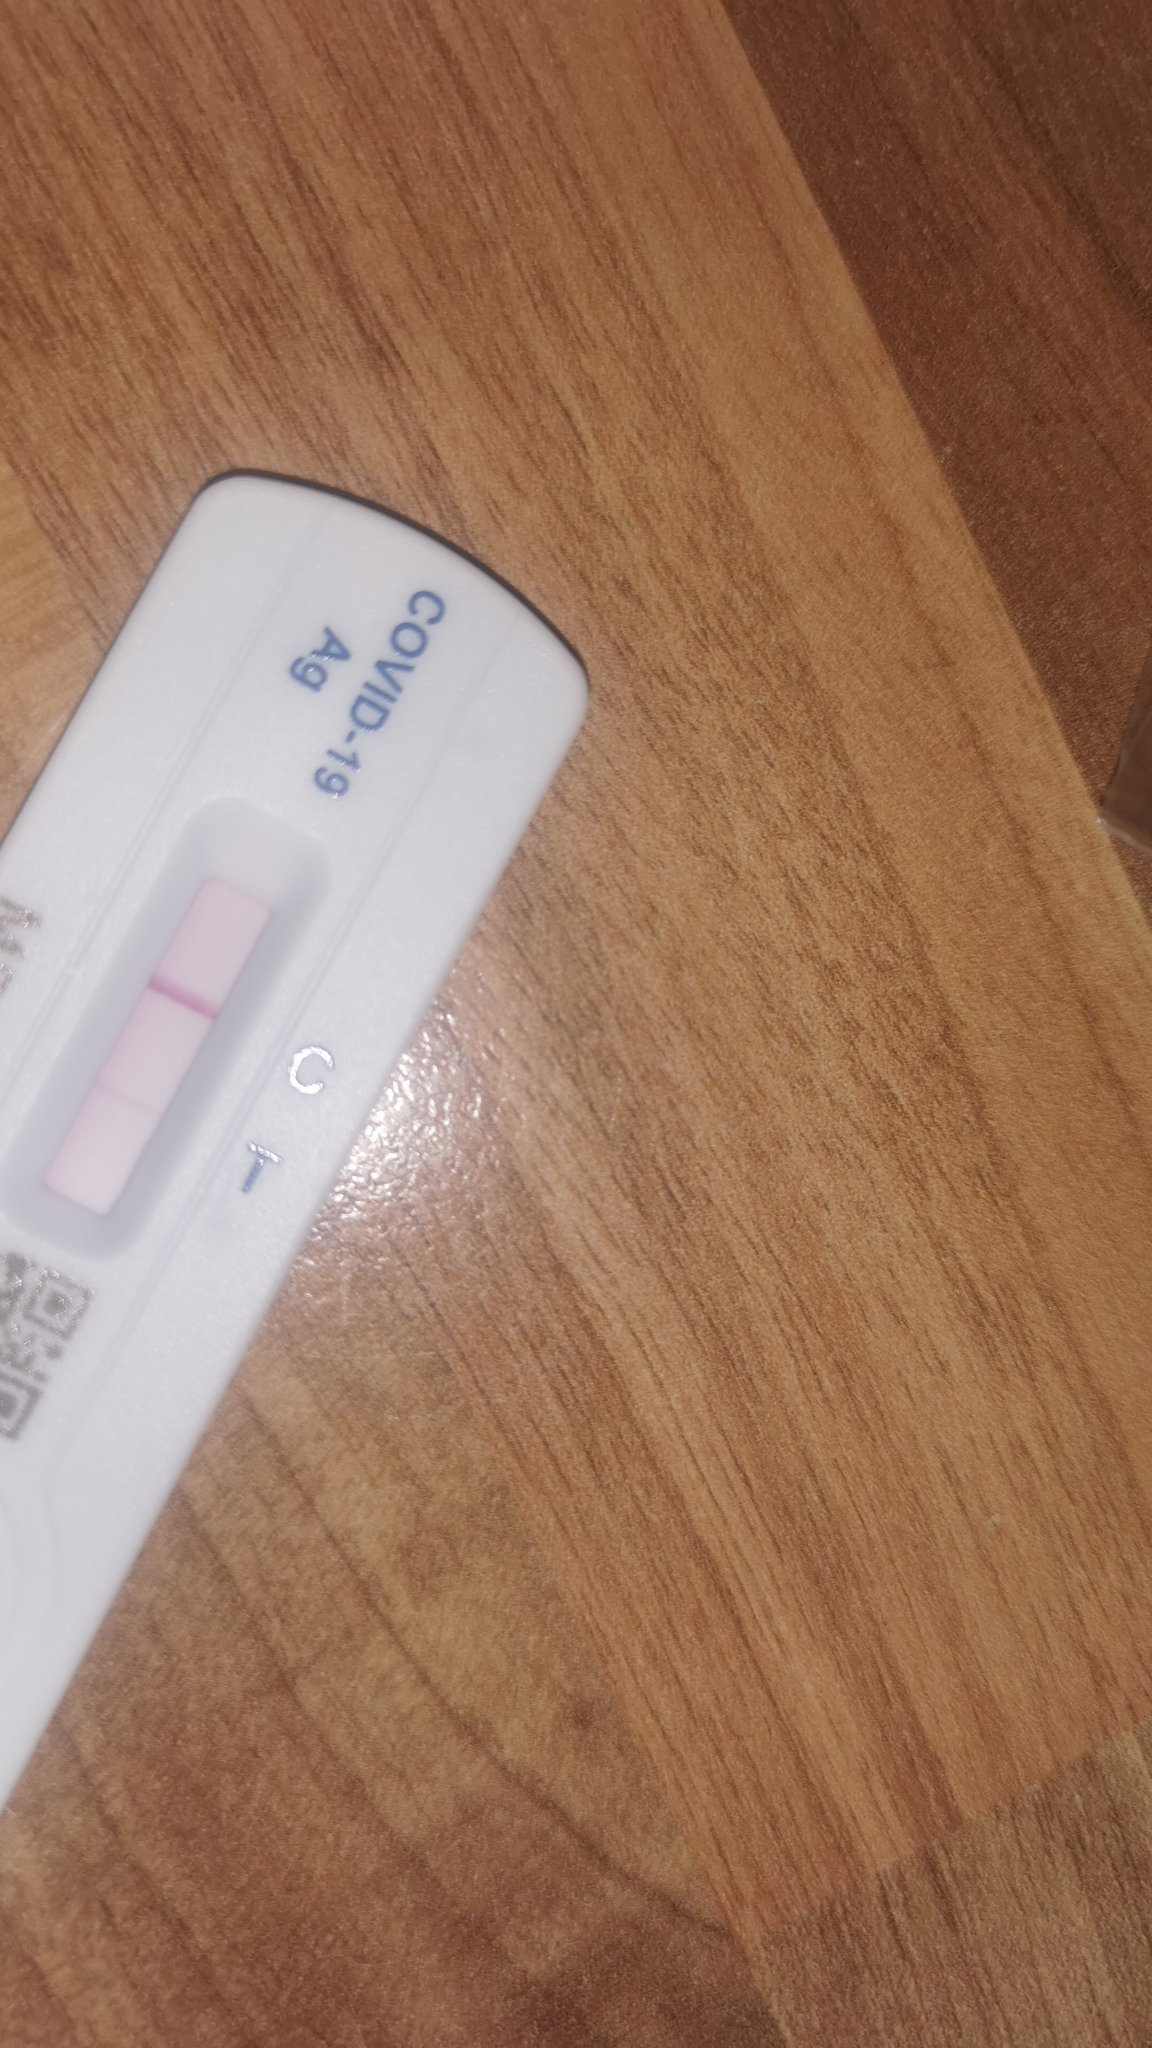positive: (98, 826, 217, 1200)
